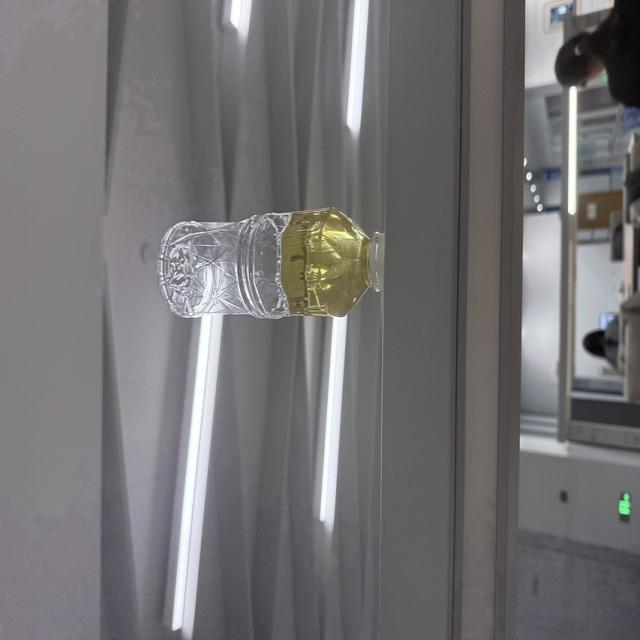low: (158, 208, 383, 318)
